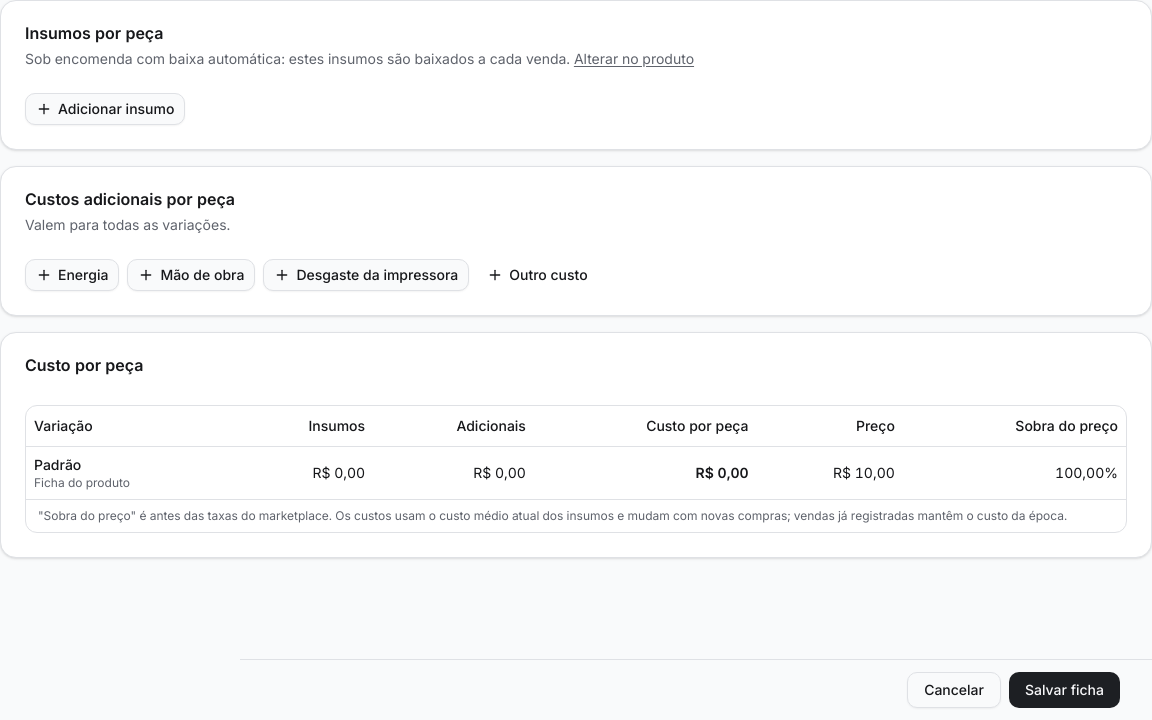
Test: CostSheetEditor › adds extra costs from the suggestions
Click the button "Adicionar insumo" at [105, 109], box top-left (25, 93), bottom-right (185, 125)
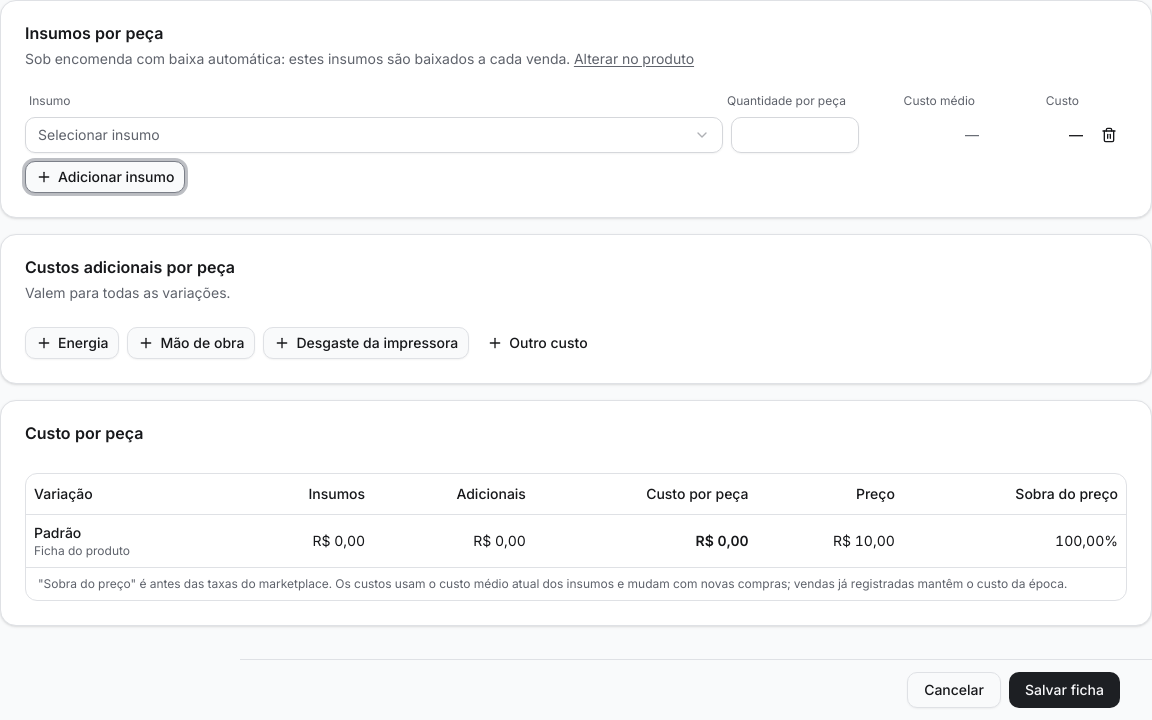
Click the dropdown labelled "Selecionar insumo" at [99, 134], box top-left (25, 117), bottom-right (723, 153)
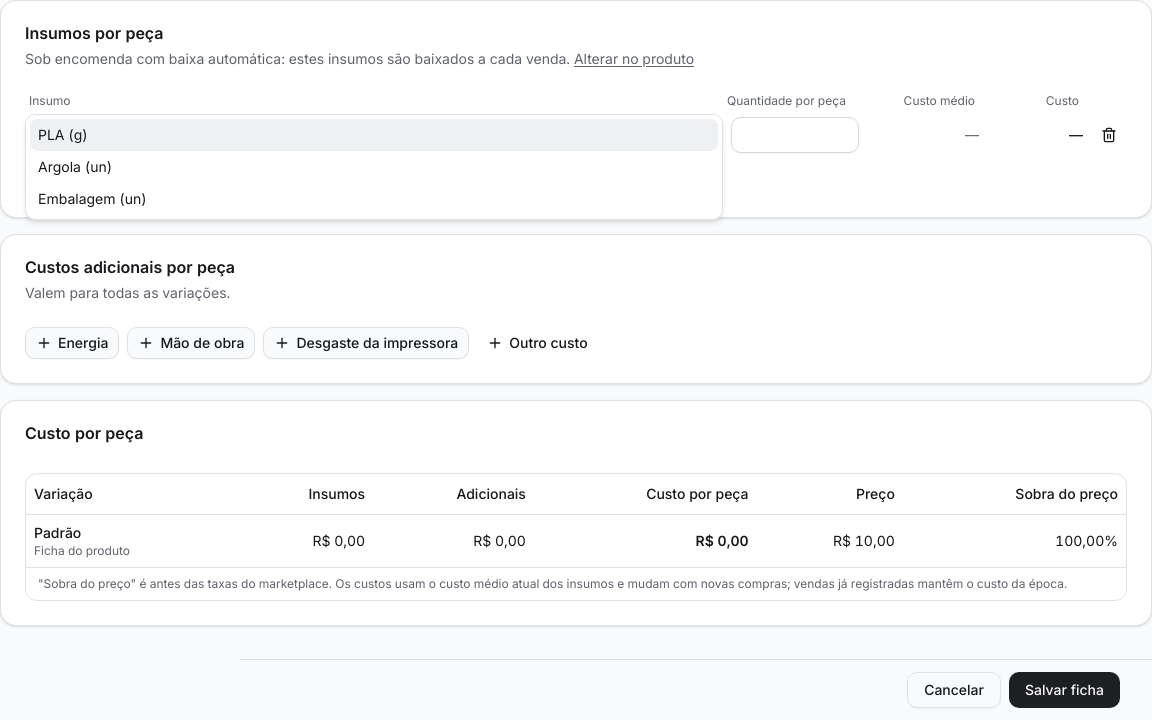
Click the option "PLA (g)" at [51, 134], box top-left (30, 119), bottom-right (718, 151)
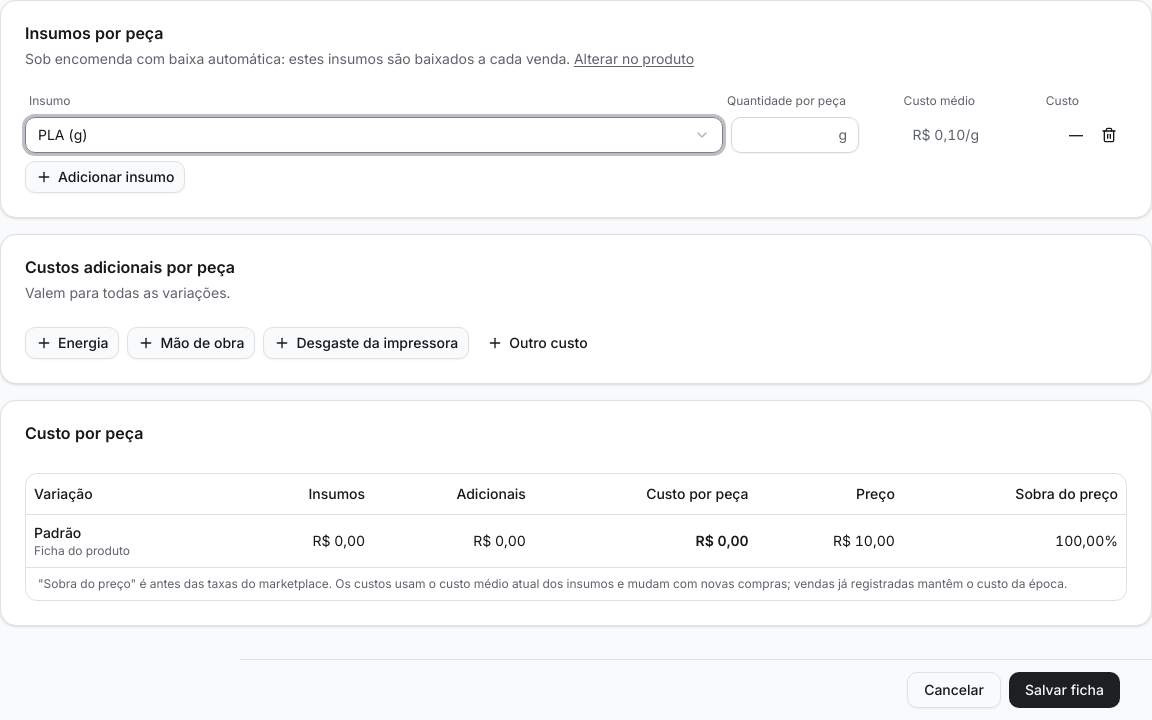
Type "15" into the field named "Quantidade da linha 1" at [795, 135], box top-left (731, 117), bottom-right (859, 153)
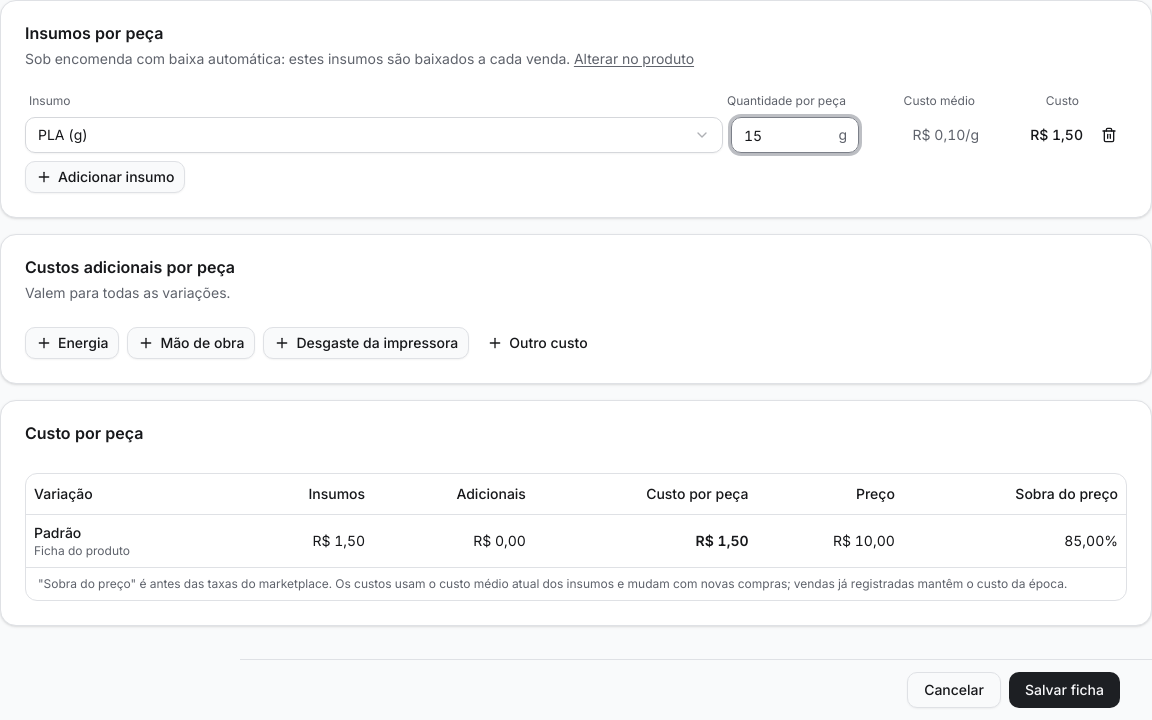
Click the button "Energia" at [72, 343], box top-left (25, 327), bottom-right (119, 359)
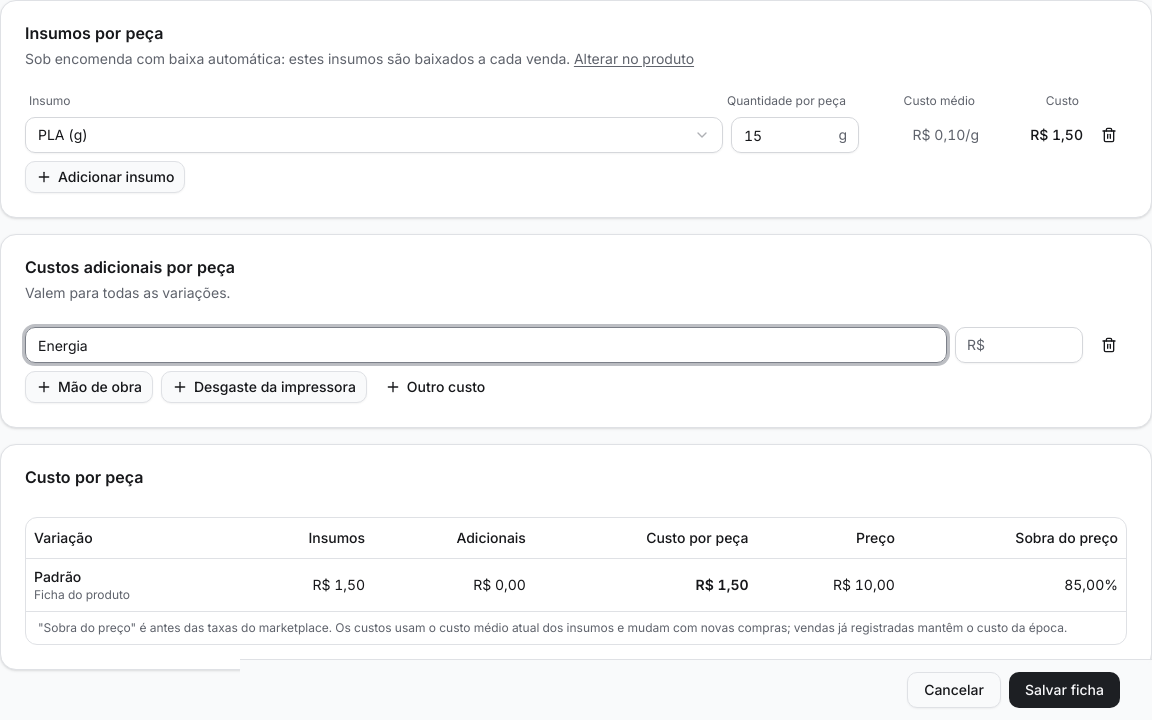
Type "0,12" into the field named "Valor do custo 1" at [1019, 345], box top-left (955, 327), bottom-right (1083, 363)
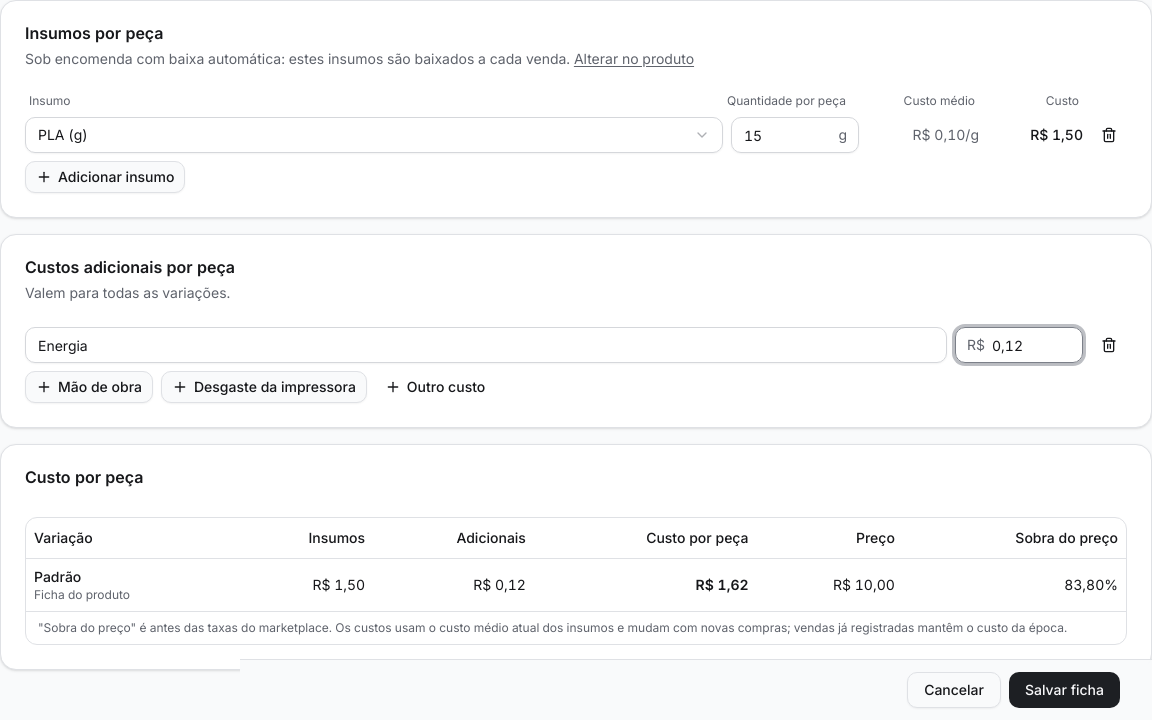
Expected: the text "Padrão" shows "R$ 1,62", top-left (696, 576), bottom-right (748, 592)
